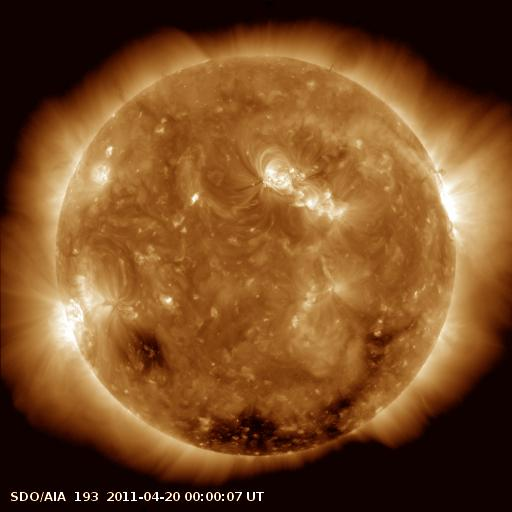coronal_hole: (188, 332, 404, 455), (124, 324, 176, 379)
